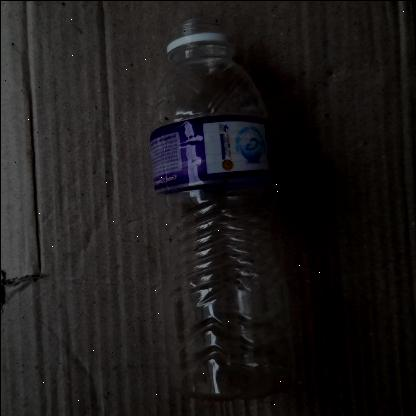Plastic Bottle: (144, 15, 298, 400)
